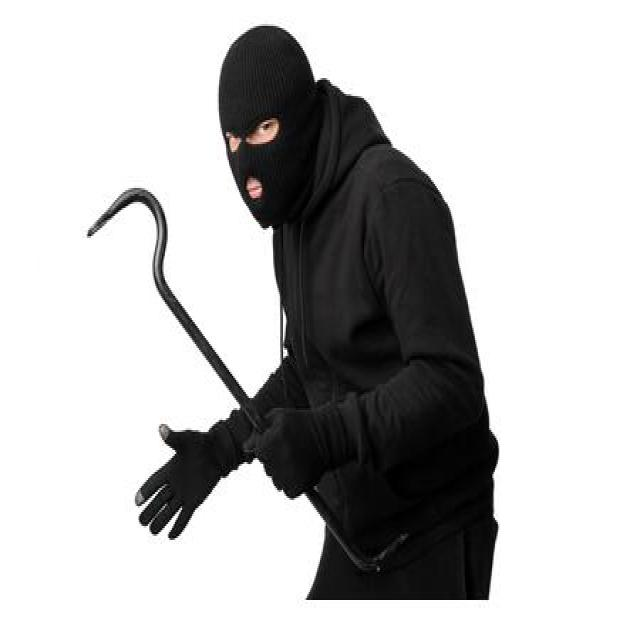6_pasamontana: (217, 23, 316, 229)
